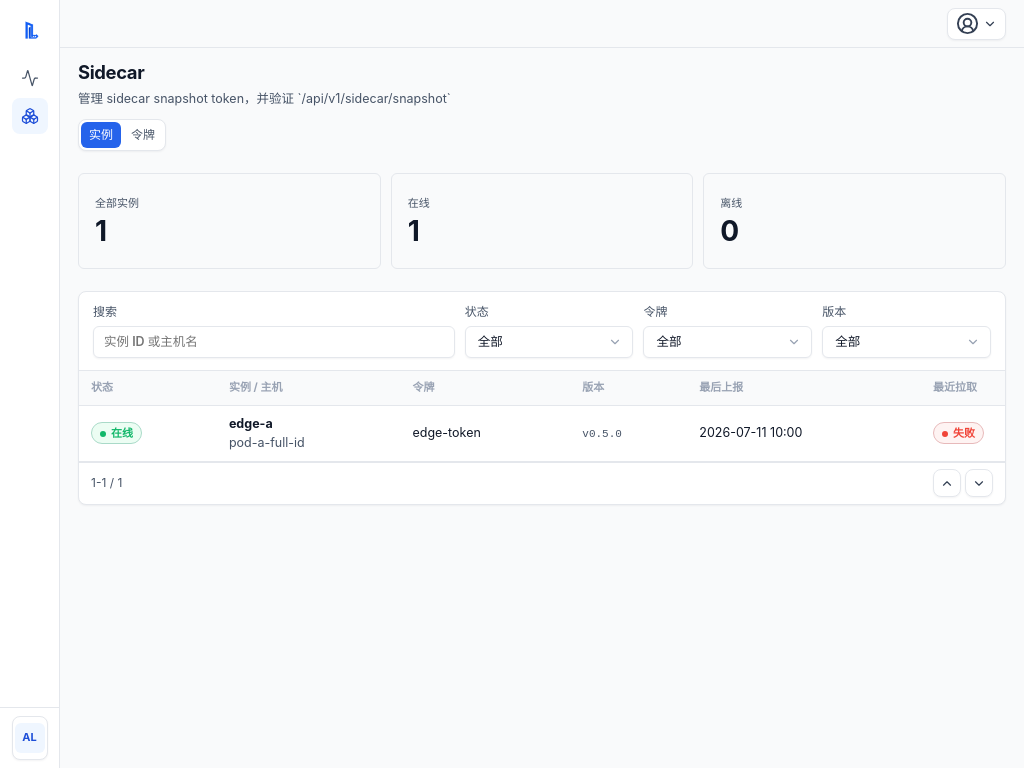
Test case: Sidecar page › shows an unapplied snapshot identity without a legacy fallback
Step 1. Click the text "edge-a" → click(251, 423), box [229,416,273,430]
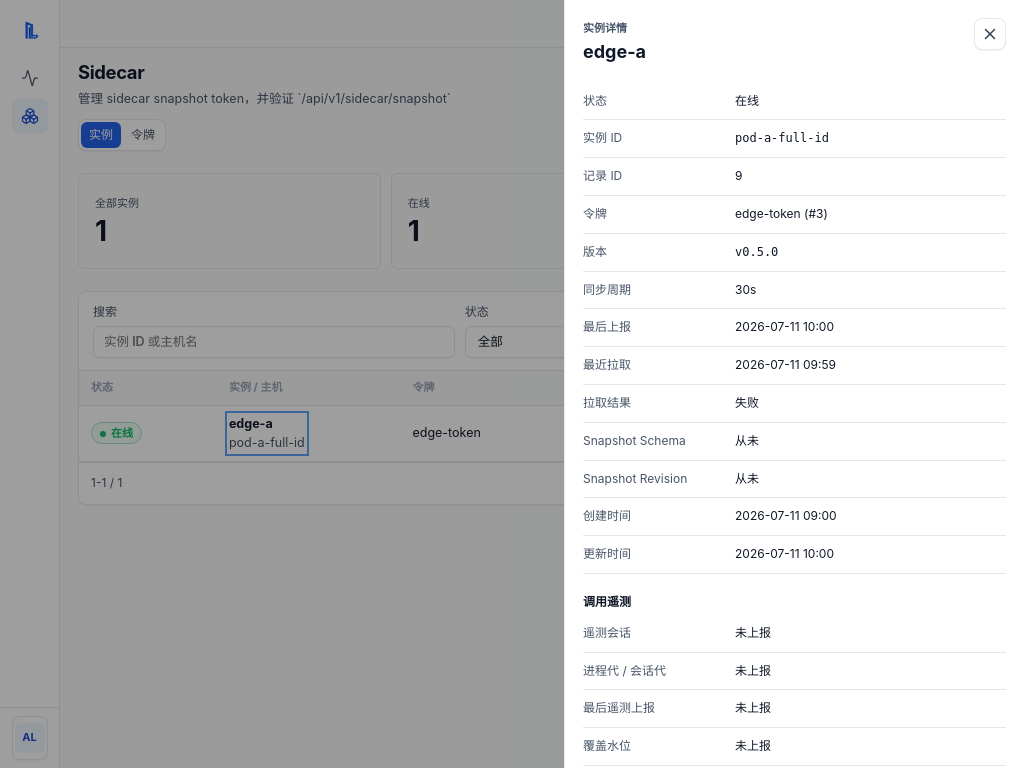
Now the dialog shows "Snapshot Schema", box [583,433,686,448]
Now the dialog shows "从未", box [735,434,759,448]
